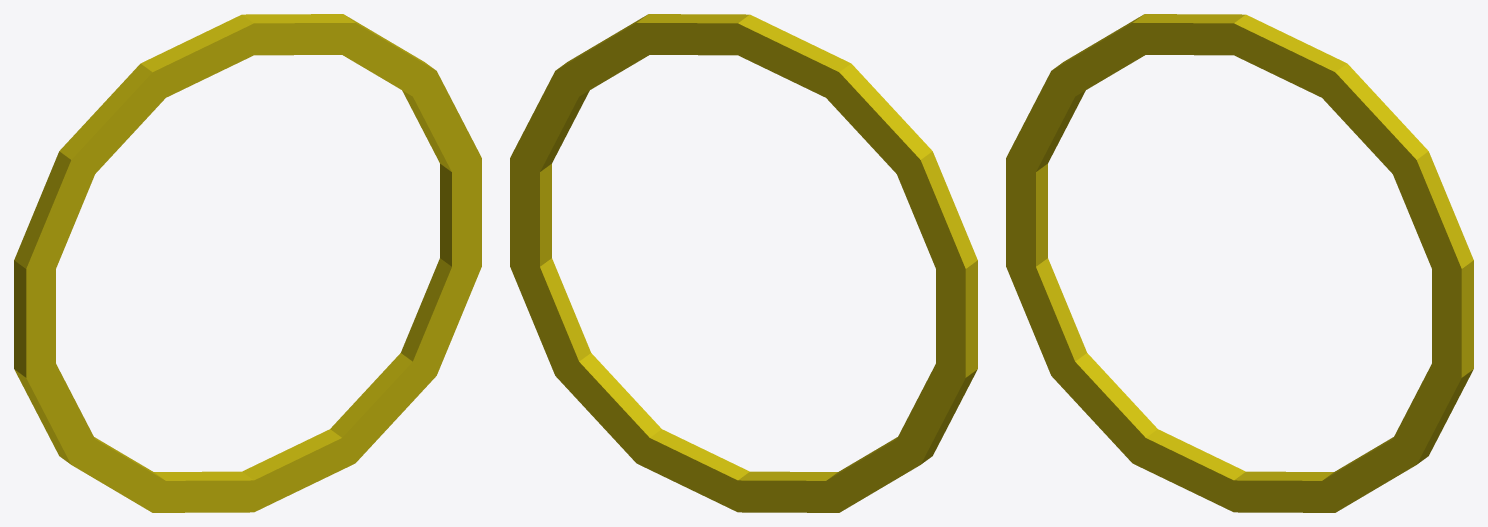
File: shankdesign.glb
3 views of the same model, side by side, from view 1: azimuth 30°, elevation 25°; view 2: azimuth 150°, elevation 25°; view 3: azimuth 330°, elevation 25° (orthographic).
Visible parts, largest first — view 1: Circle; view 2: Circle; view 3: Circle.
Part boxes in pixels (x1=…): Circle: x1=14, y1=14, x2=481, y2=512; Circle: x1=510, y1=14, x2=977, y2=512; Circle: x1=1006, y1=14, x2=1473, y2=512.
Bounding box in the file's own units: 3.47 × 3.55 × 0.1594.
Materials: 1 (1 with a texture image).
